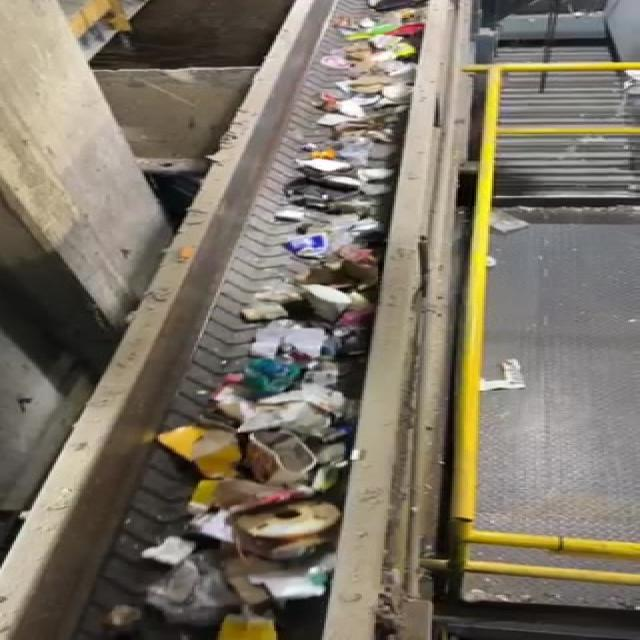paper: (158, 422, 247, 496)
